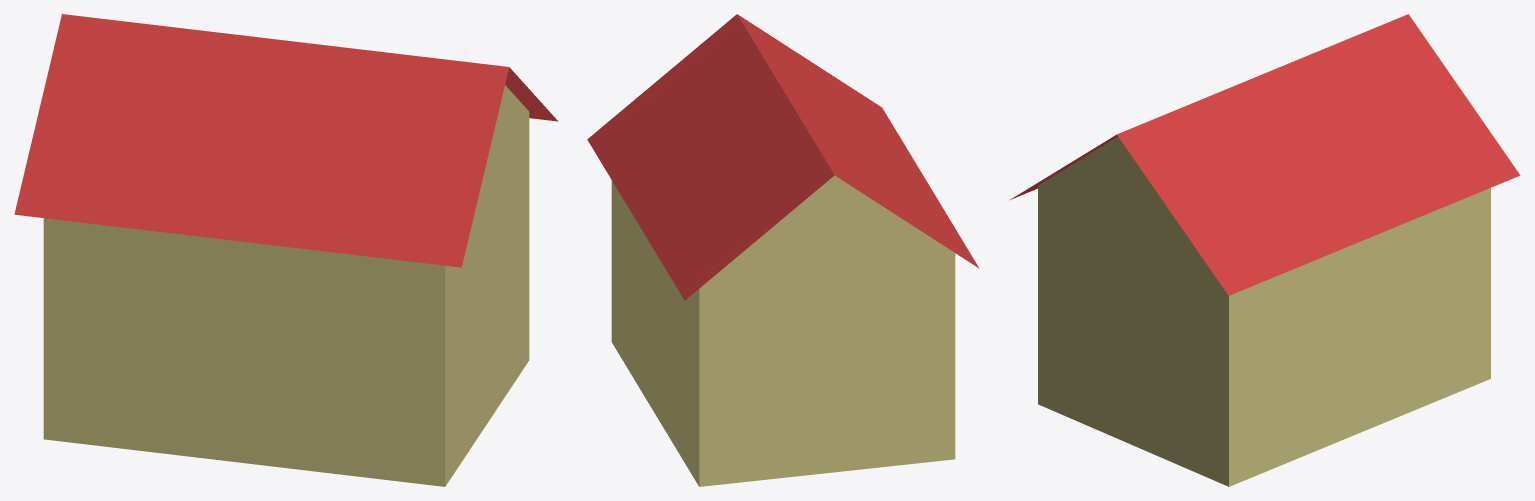
The picture shows the model from 3 angles, left to right: view 1: azimuth 30°, elevation 25°; view 2: azimuth 150°, elevation 25°; view 3: azimuth 270°, elevation 25°; orthographic projection. The views are drawn at different scales.
Bounding box in the file's own units: 18.42 × 18.48 × 12.6.
